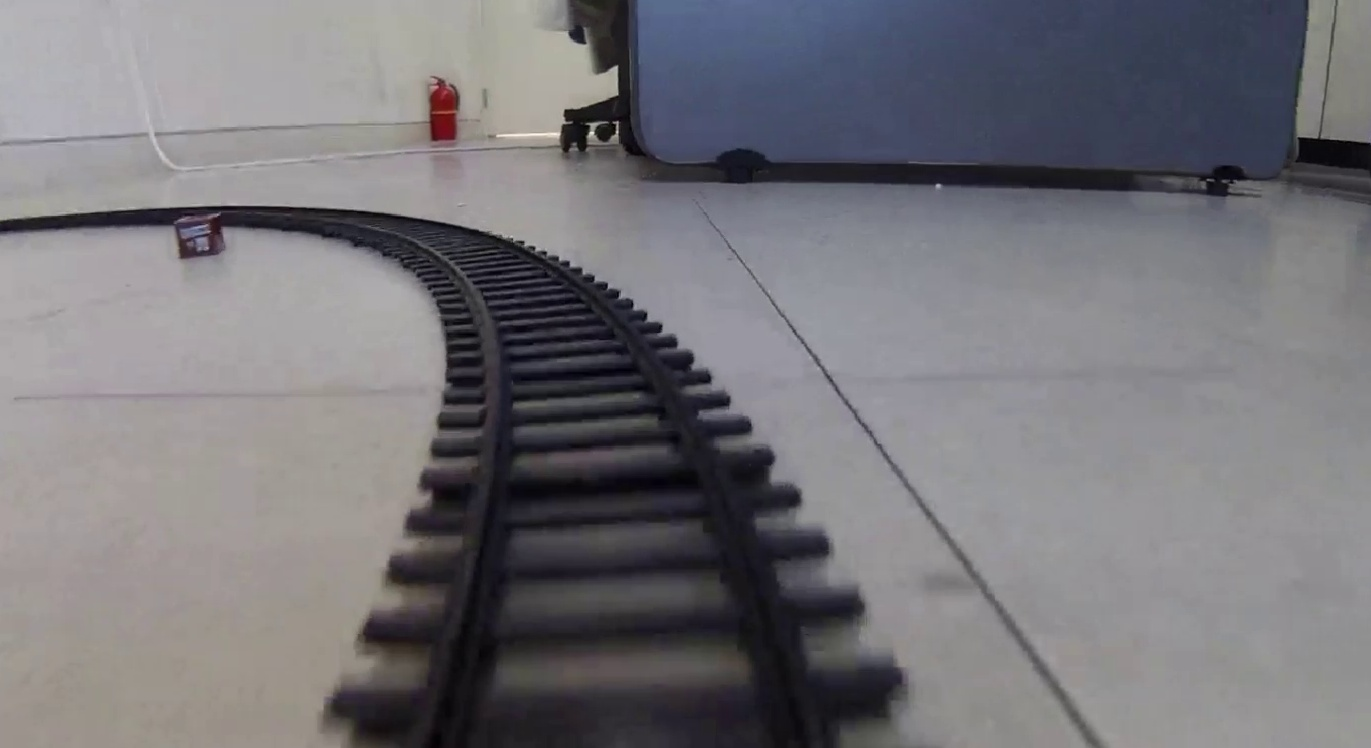box: (175, 213, 227, 257)
